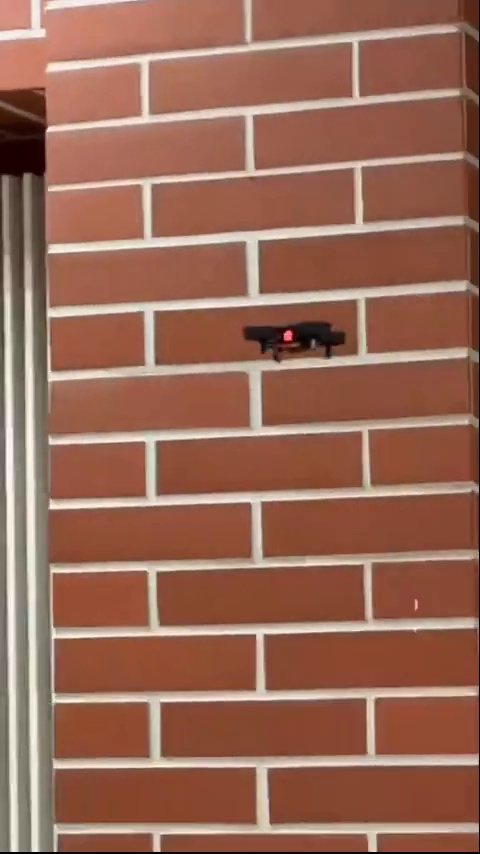drone: (242, 312, 353, 359)
